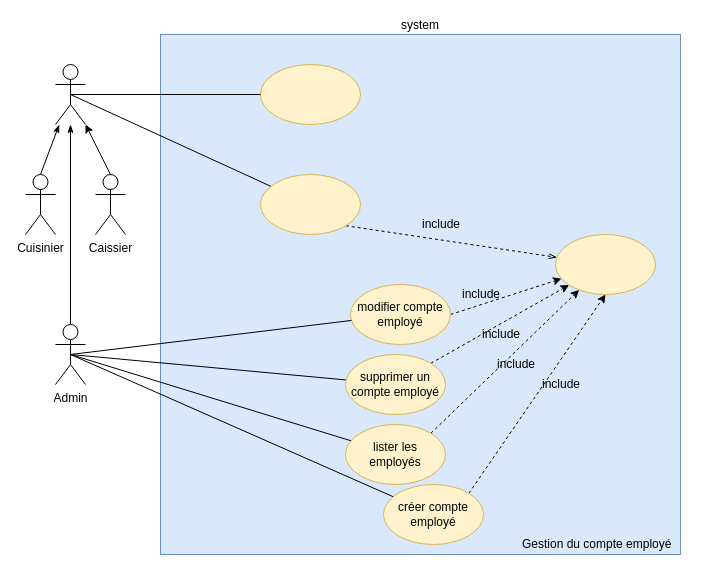
Some shapes in this 708 by 572 pixel diagram are drawn without their labels. Each missing label, with the centre of its shape:
"authentification" goes at [605,264].
"Employé" goes at [70,94].
"se connecter" goes at [310,204].
"se déconnecter" goes at [310,94].
